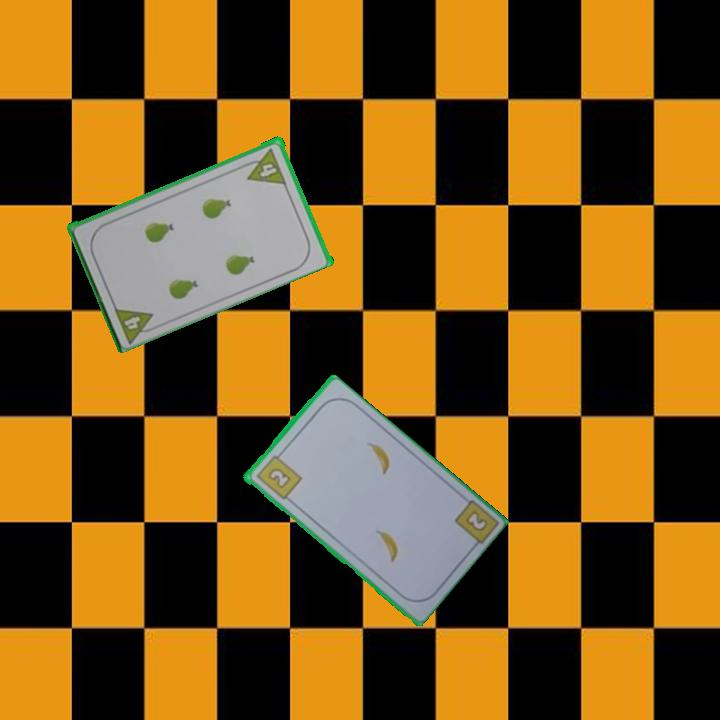2b: (252, 448, 304, 502), (461, 507, 490, 534)
4p: (110, 302, 161, 345), (240, 144, 289, 187)
